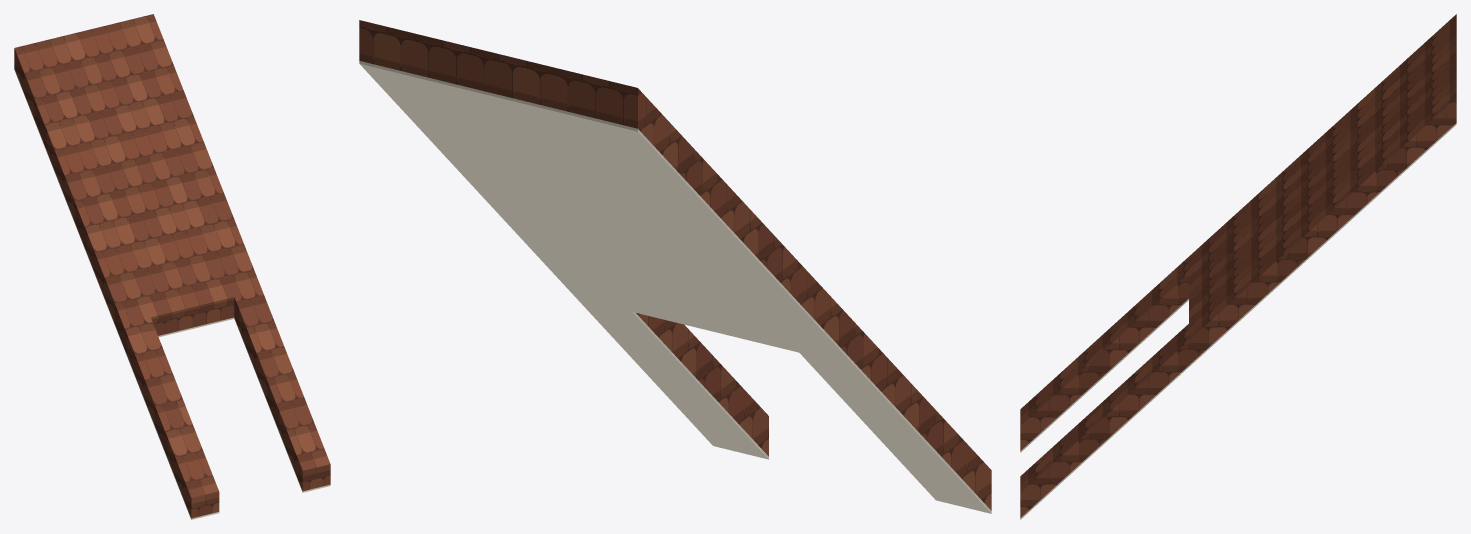
File: roof_slope_dormer.glb
3 renders of one model, left to right at view 1: azimuth 30°, elevation 25°; view 2: azimuth 150°, elevation 25°; view 3: azimuth 270°, elevation 25°, orthographic. The views are drawn at different scales.
Visible parts, largest first — view 1: roof_slope_dormer_roof_tiles, roof_slope_dormer_plaster; view 2: roof_slope_dormer_plaster, roof_slope_dormer_roof_tiles; view 3: roof_slope_dormer_roof_tiles, roof_slope_dormer_plaster.
Boxes of the visible parts, <box> form: roof_slope_dormer_roof_tiles: <box>14,14,330,518</box>; roof_slope_dormer_plaster: <box>14,69,330,519</box>; roof_slope_dormer_plaster: <box>359,61,991,513</box>; roof_slope_dormer_roof_tiles: <box>359,20,991,510</box>; roof_slope_dormer_roof_tiles: <box>1020,14,1456,517</box>; roof_slope_dormer_plaster: <box>1020,123,1456,519</box>.
Size of the model in its own units: 2 by 4.7 by 4.4.
Materials: 2 (2 with a texture image).
